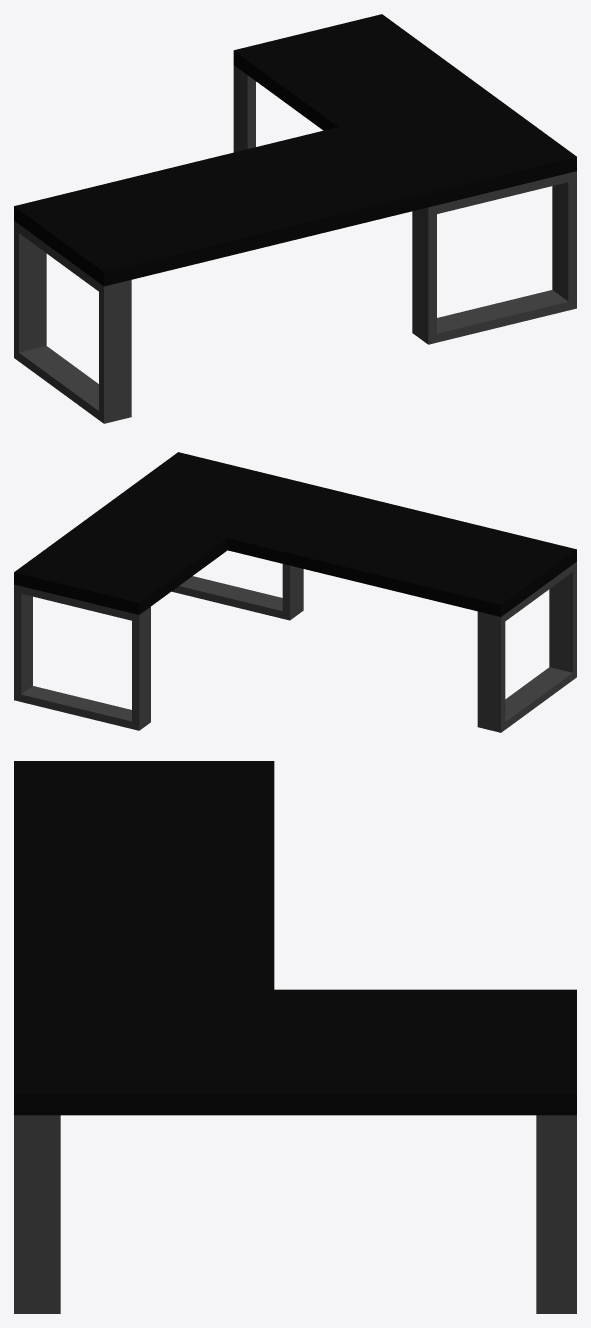
Rendered from TableA.FBX.
3 views of the same model, one above another, from view 1: azimuth 30°, elevation 25°; view 2: azimuth 150°, elevation 25°; view 3: azimuth 270°, elevation 25° (orthographic). The views are drawn at different scales.
Visible parts, largest first — view 1: TableA; view 2: TableA; view 3: TableA.
Part boxes in pixels (box(x1,y1,x2,y2)): TableA: box(14, 14, 576, 423); TableA: box(14, 452, 576, 732); TableA: box(14, 761, 576, 1313).
Bounding box in the file's own units: 246 × 75.37 × 175.
